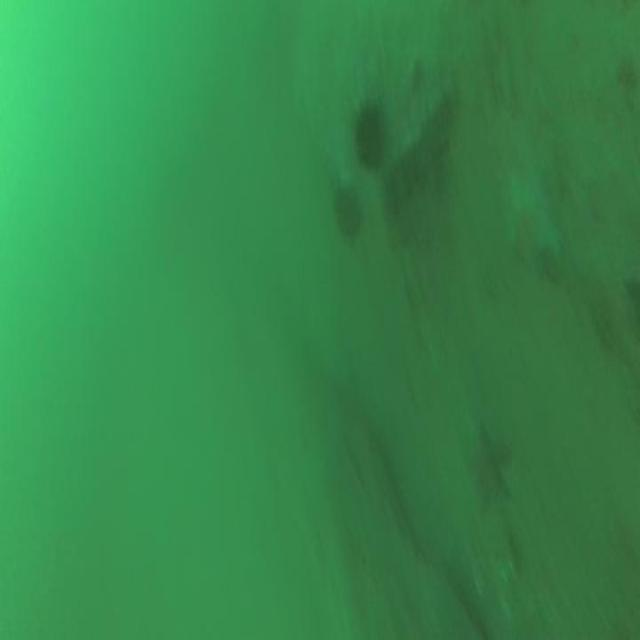echinus: (344, 87, 392, 182)
starfish: (500, 160, 564, 284), (461, 418, 519, 514)
